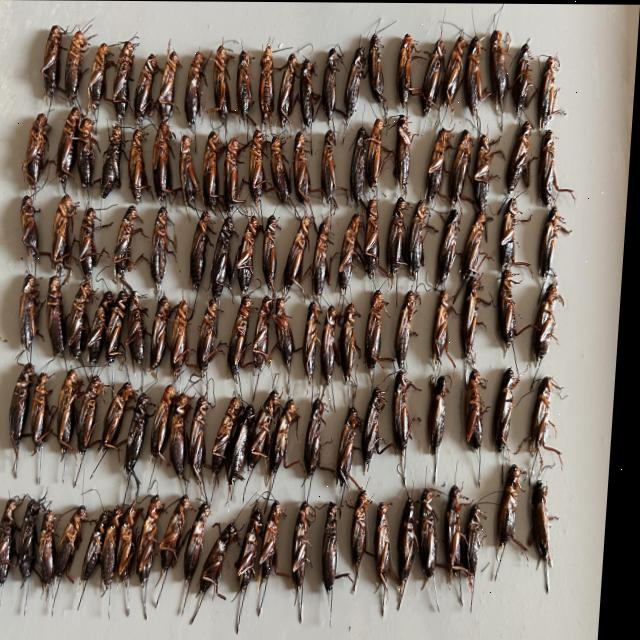egg: (189, 503, 217, 613), (265, 501, 291, 615), (15, 363, 41, 476), (167, 494, 198, 588), (208, 522, 245, 600), (88, 512, 119, 605), (502, 463, 526, 577), (0, 497, 29, 589), (300, 501, 322, 620), (218, 397, 248, 484), (61, 505, 95, 581), (144, 494, 171, 587), (245, 501, 269, 604), (233, 406, 259, 500), (536, 376, 567, 454), (275, 398, 305, 478), (106, 381, 141, 449), (254, 391, 283, 472), (63, 369, 88, 460), (539, 282, 567, 361), (398, 369, 418, 479), (23, 499, 48, 586), (543, 206, 573, 277), (398, 369, 417, 479), (25, 113, 52, 190), (540, 56, 567, 133), (500, 367, 525, 450), (453, 484, 474, 582), (83, 375, 109, 453), (215, 216, 239, 300), (369, 386, 392, 473), (131, 393, 155, 475), (406, 498, 424, 606), (287, 215, 314, 287), (473, 503, 494, 594), (59, 108, 82, 190), (359, 488, 377, 592), (238, 215, 262, 293), (233, 296, 256, 377), (92, 291, 117, 365), (55, 194, 79, 271), (72, 279, 95, 359), (343, 407, 367, 483), (110, 288, 134, 363), (195, 396, 214, 490), (539, 479, 560, 564), (175, 393, 196, 478), (466, 276, 488, 357), (157, 385, 181, 459), (399, 290, 421, 370), (509, 120, 533, 193), (114, 41, 137, 117), (370, 289, 389, 381), (43, 510, 64, 592), (66, 30, 89, 104), (429, 127, 452, 201), (310, 397, 331, 478), (383, 502, 398, 615), (541, 129, 563, 206), (491, 29, 508, 128), (426, 488, 444, 581), (124, 504, 143, 592), (423, 36, 444, 115), (277, 297, 299, 372), (391, 197, 411, 279), (342, 213, 363, 291), (330, 502, 346, 604), (445, 34, 466, 111), (42, 26, 64, 99), (37, 373, 57, 453), (136, 53, 158, 125), (117, 206, 139, 278), (465, 211, 489, 277), (471, 369, 491, 448), (154, 206, 173, 289), (159, 42, 179, 120), (194, 211, 214, 289), (51, 275, 70, 357), (131, 127, 152, 201), (186, 51, 207, 125), (202, 300, 223, 374), (129, 291, 150, 364), (155, 121, 174, 201), (108, 516, 127, 596), (443, 205, 463, 281), (182, 135, 202, 211), (24, 274, 43, 352), (412, 201, 431, 279), (104, 124, 124, 198), (466, 34, 484, 116), (435, 375, 454, 452), (315, 222, 334, 299), (344, 302, 362, 382), (89, 43, 110, 111), (279, 53, 298, 128), (453, 129, 473, 200), (258, 296, 277, 370), (156, 295, 174, 373), (251, 129, 269, 207), (346, 47, 364, 124), (437, 289, 455, 366), (513, 41, 533, 110), (215, 42, 232, 122), (273, 136, 293, 204), (503, 268, 520, 347), (398, 33, 416, 107), (79, 117, 98, 187), (175, 299, 192, 376), (368, 118, 386, 190), (353, 126, 370, 202), (308, 301, 323, 387), (397, 114, 413, 194), (369, 33, 387, 104), (260, 39, 275, 124), (24, 196, 42, 265), (83, 208, 101, 277), (295, 131, 312, 204), (205, 131, 221, 208), (476, 135, 493, 207), (367, 198, 382, 278), (503, 198, 520, 268), (326, 306, 341, 384), (226, 138, 242, 208), (324, 47, 338, 125), (301, 59, 317, 127), (266, 215, 280, 289), (238, 50, 253, 118), (324, 129, 337, 200), (244, 607, 250, 632), (526, 169, 532, 185), (476, 520, 484, 528)
